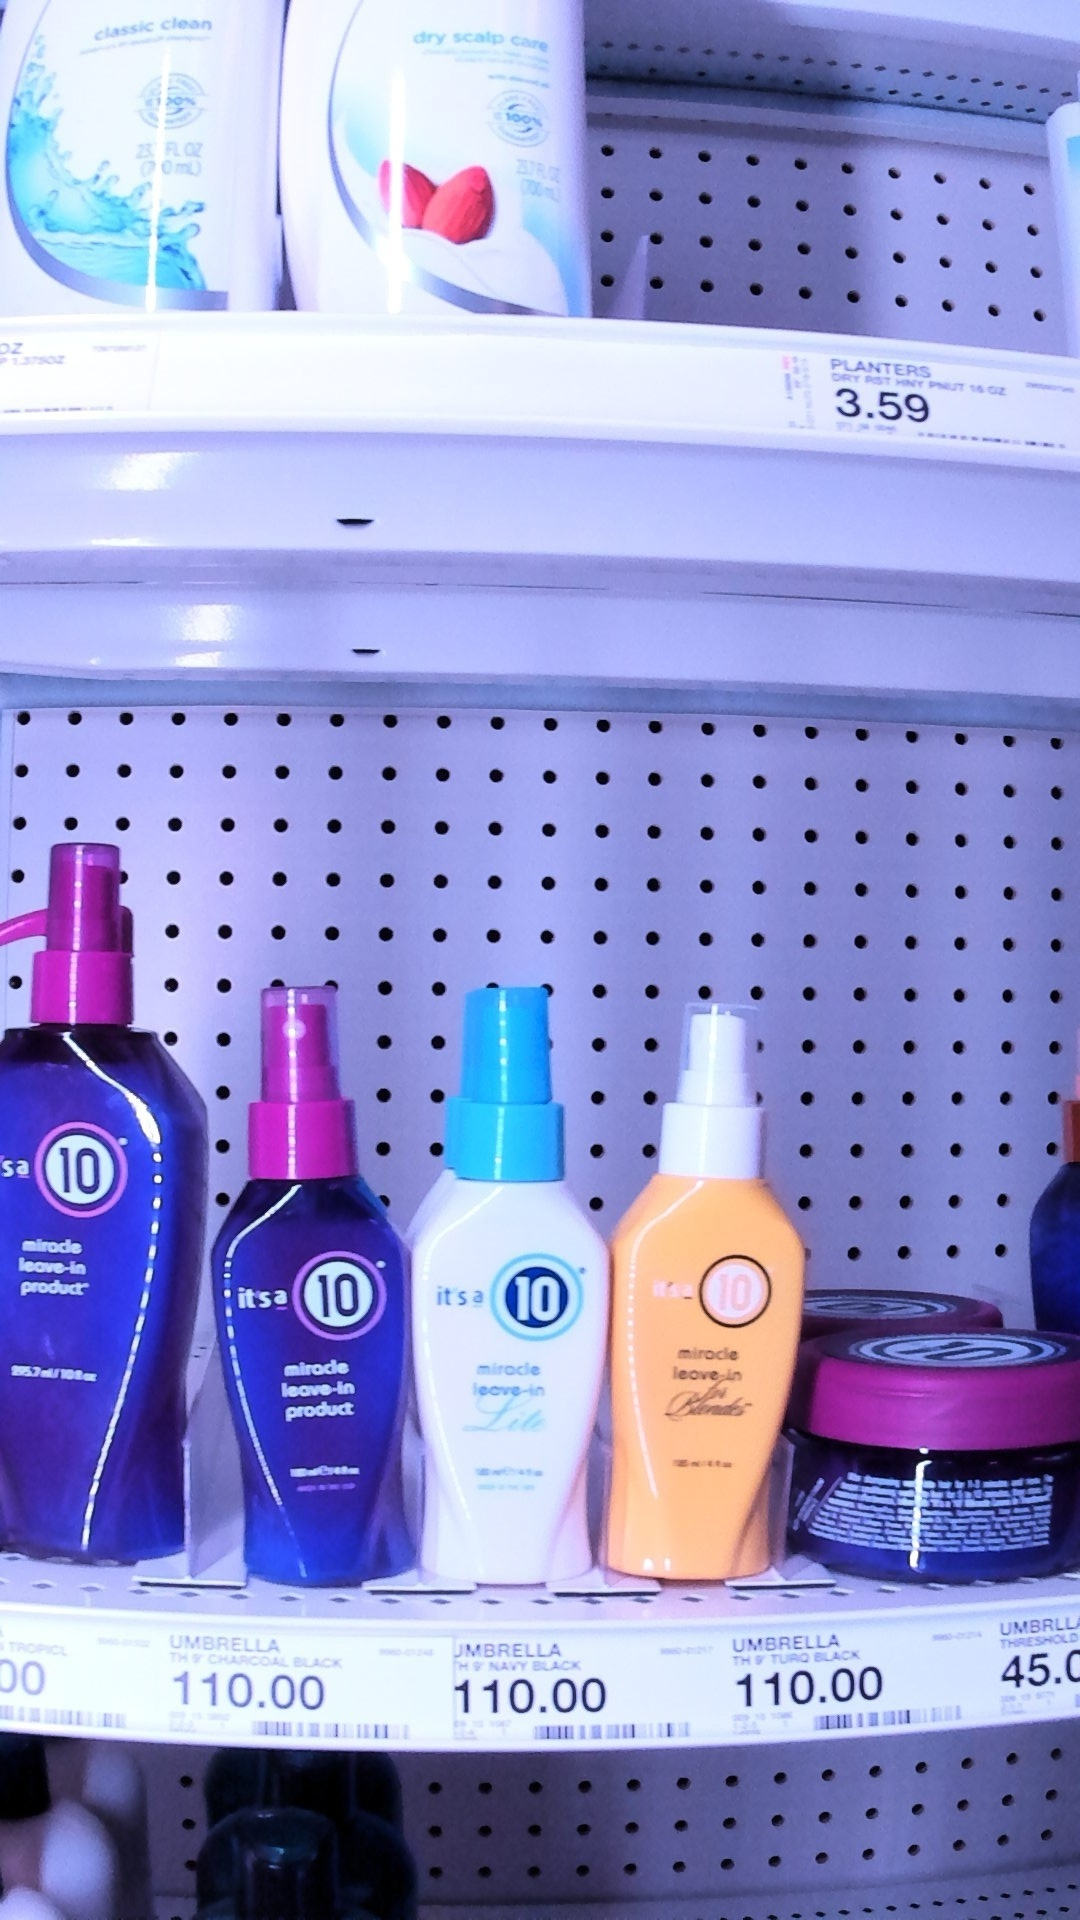ptag: (444, 1615, 698, 1756), (782, 335, 1064, 458), (162, 1617, 411, 1749), (731, 1615, 955, 1741)
